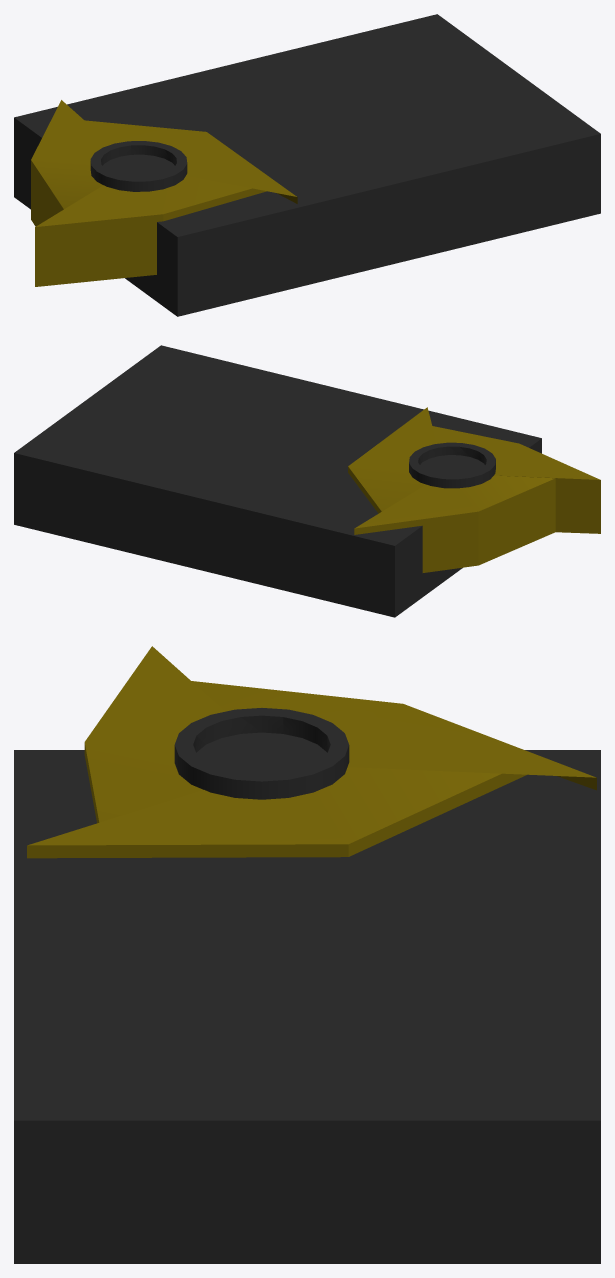
File: threading header.fbx
3 views of the same model, one above another, from view 1: azimuth 30°, elevation 25°; view 2: azimuth 150°, elevation 25°; view 3: azimuth 270°, elevation 25° (orthographic). The views are drawn at different scales.
Visible parts, largest first — view 1: pCube1, pCylinder3, polySurface3; view 2: pCube1, pCylinder3, polySurface3; view 3: pCube1, pCylinder3, polySurface3.
Part boxes in pixels (x1,y1,x2,y2): pCube1: [14, 14, 600, 316]; pCylinder3: [31, 100, 297, 286]; polySurface3: [90, 141, 187, 191]; pCube1: [14, 345, 541, 617]; pCylinder3: [348, 407, 600, 572]; polySurface3: [409, 442, 495, 488]; pCube1: [14, 750, 600, 1263]; pCylinder3: [27, 646, 596, 858]; polySurface3: [174, 708, 349, 799].
Size of the model in its own units: 8.51 by 1.5 by 4.57.
